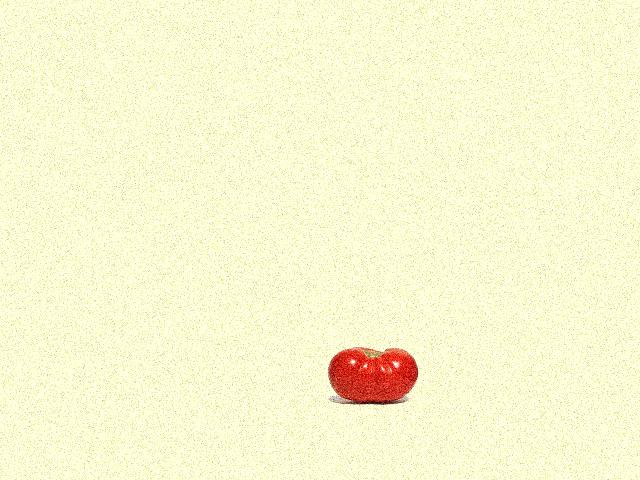tomato: (328, 347, 418, 402)
